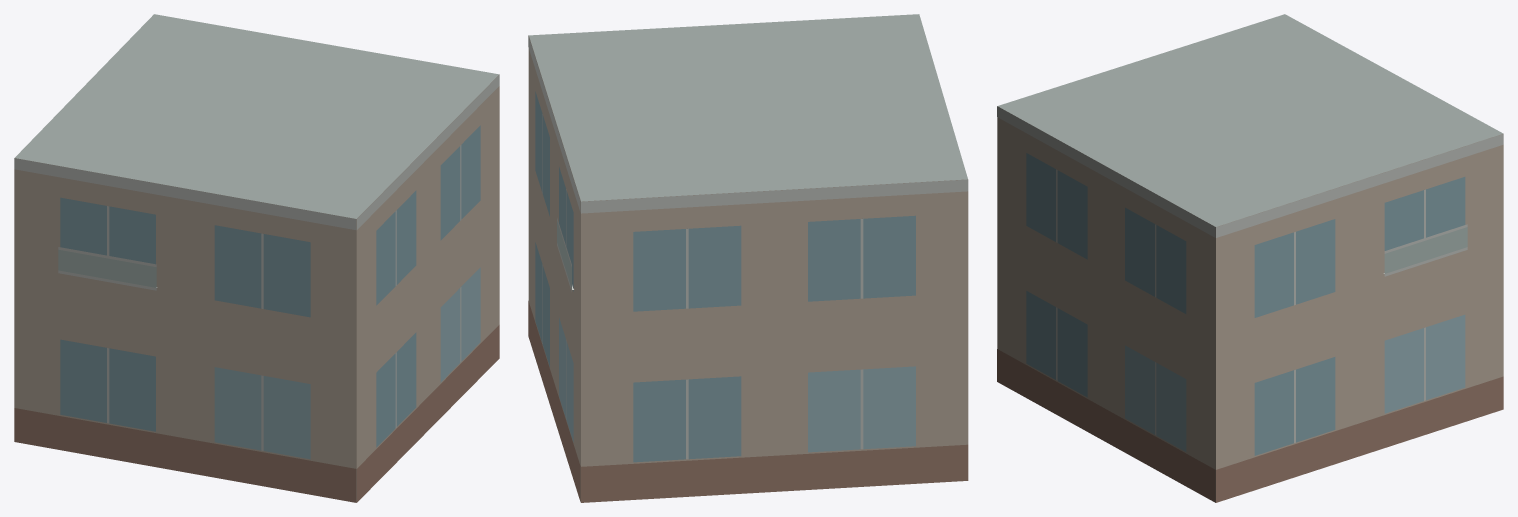
Rendered from survey-upis-32888168.glb.
The picture shows the model from 3 angles, left to right: view 1: azimuth 30°, elevation 25°; view 2: azimuth 150°, elevation 25°; view 3: azimuth 270°, elevation 25°; orthographic projection. The views are drawn at different scales.
Visible parts, largest first — view 1: survey-upis-32888168.tmp; view 2: survey-upis-32888168.tmp; view 3: survey-upis-32888168.tmp.
Part boxes in pixels (bbox=[...]): survey-upis-32888168.tmp: bbox=[14, 14, 499, 502]; survey-upis-32888168.tmp: bbox=[528, 14, 968, 502]; survey-upis-32888168.tmp: bbox=[997, 14, 1503, 502].
Bounding box in the file's own units: 10.12 × 6.1 × 10.16.
